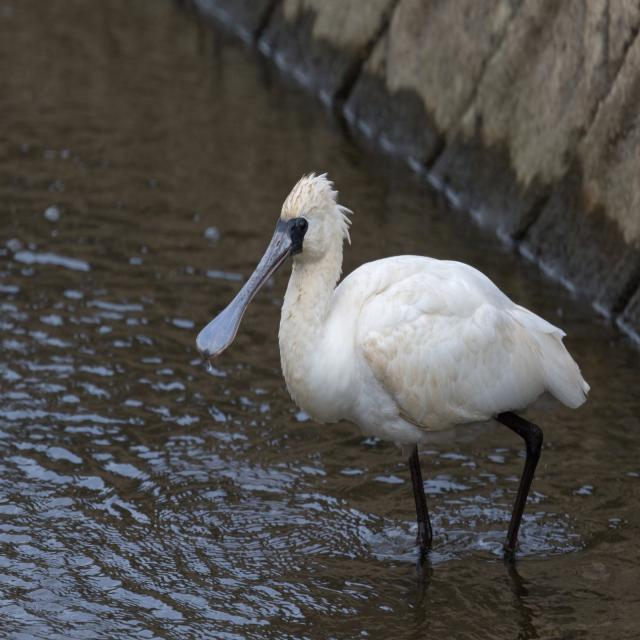Black-faced spoonbill: (197, 175, 589, 557)
